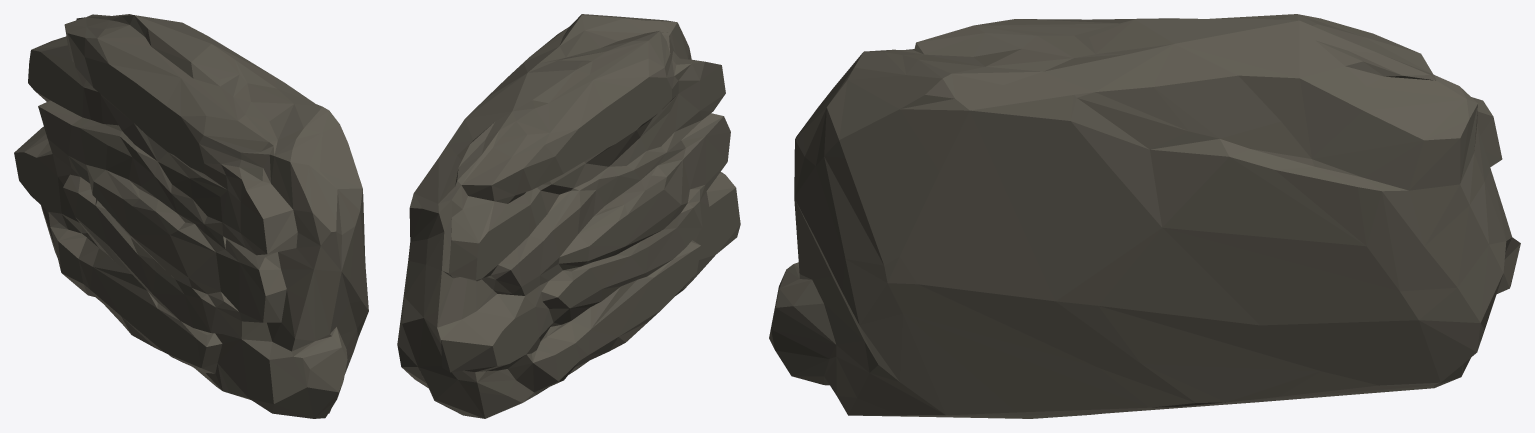
File: synty-rock-wall-01.gltf
3 views of the same model, side by side, from view 1: azimuth 30°, elevation 25°; view 2: azimuth 150°, elevation 25°; view 3: azimuth 270°, elevation 25° (orthographic). The views are drawn at different scales.
Parts seen in each view (by area): view 1: SM_Rock_Wall_01; view 2: SM_Rock_Wall_01; view 3: SM_Rock_Wall_01.
Part boxes in pixels (x1,y1,x2,y2): SM_Rock_Wall_01: (14, 14, 368, 418); SM_Rock_Wall_01: (397, 14, 740, 418); SM_Rock_Wall_01: (769, 14, 1520, 418).
Bounding box in the file's own units: 1.32 × 2.61 × 4.64.
Materials: 1 (1 with a texture image).
